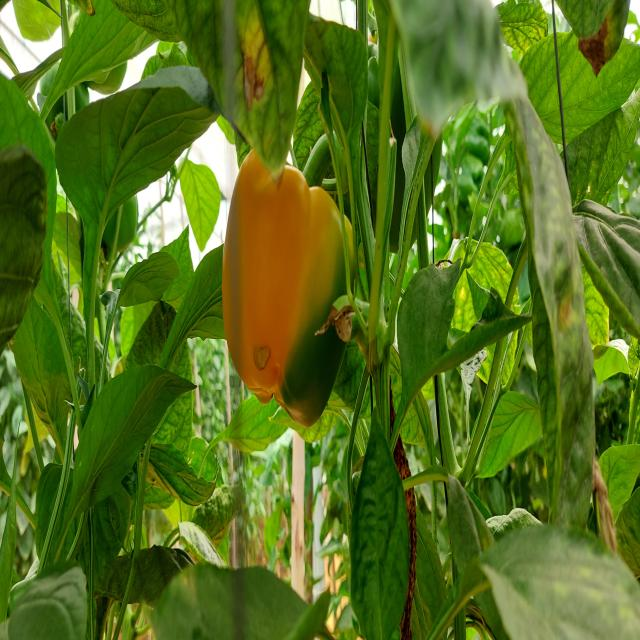GreenishYellow--Can-be-Harvested: (220, 138, 360, 442)
